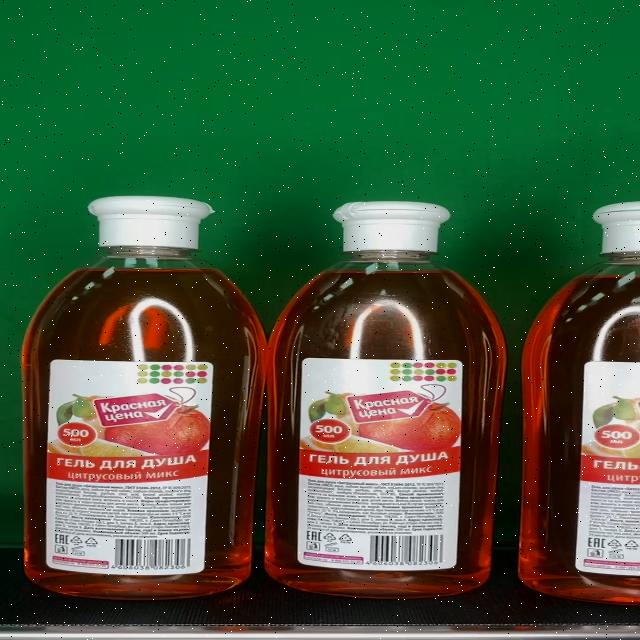Bottle: (24, 197, 268, 599), (268, 202, 507, 599)
Cap: (89, 198, 215, 248), (332, 202, 451, 252)
